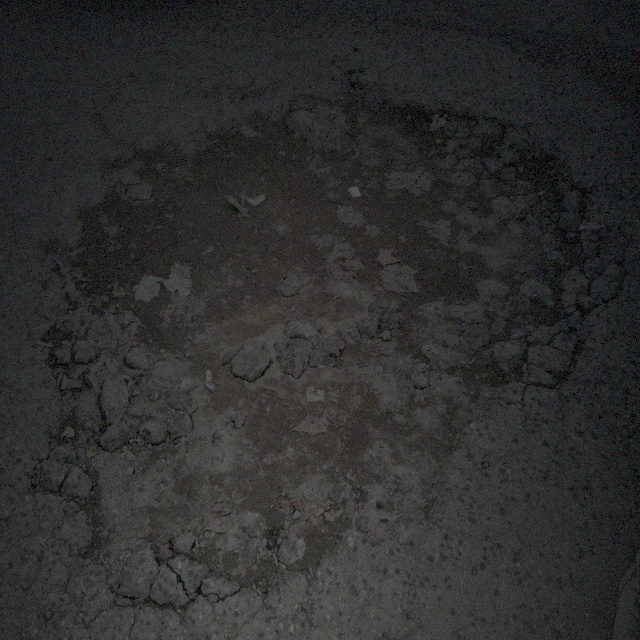pothole: (36, 81, 598, 617)
